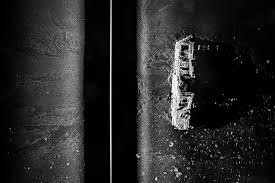ship: (169, 35, 198, 132)
